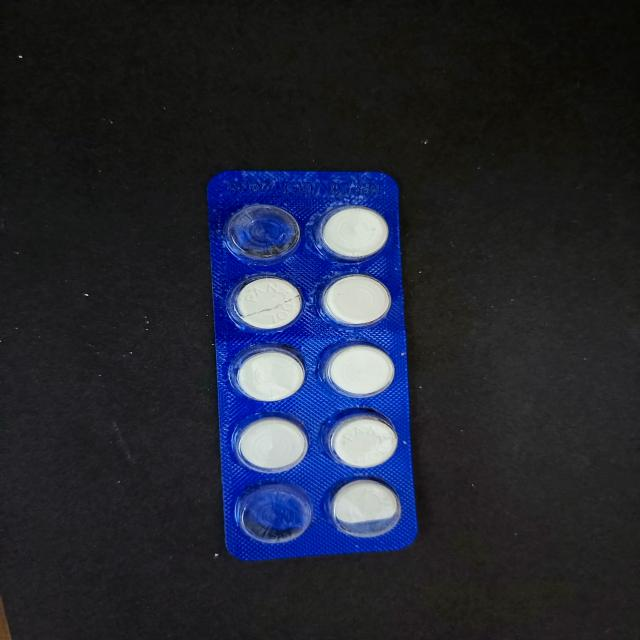defect: (233, 481, 316, 546), (221, 203, 305, 266), (324, 476, 405, 540), (225, 272, 308, 333)
